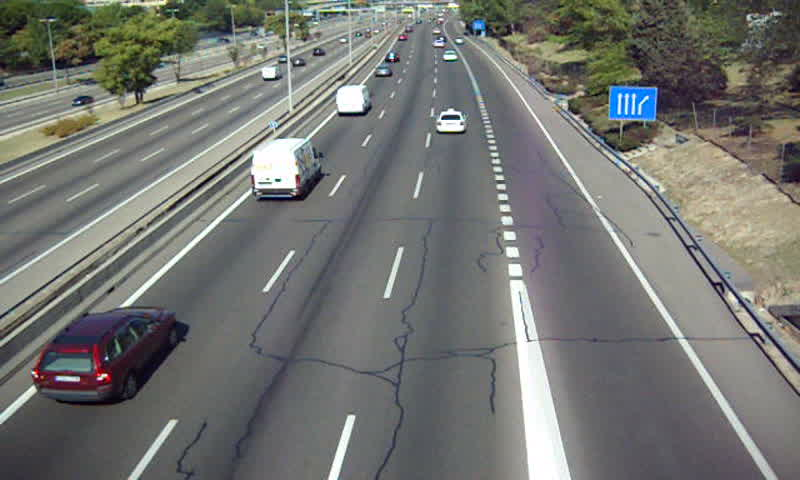car: (31, 306, 174, 402), (436, 110, 465, 134), (373, 66, 392, 79), (442, 50, 459, 63), (385, 50, 399, 64)
van: (250, 139, 324, 198), (337, 86, 370, 116)
